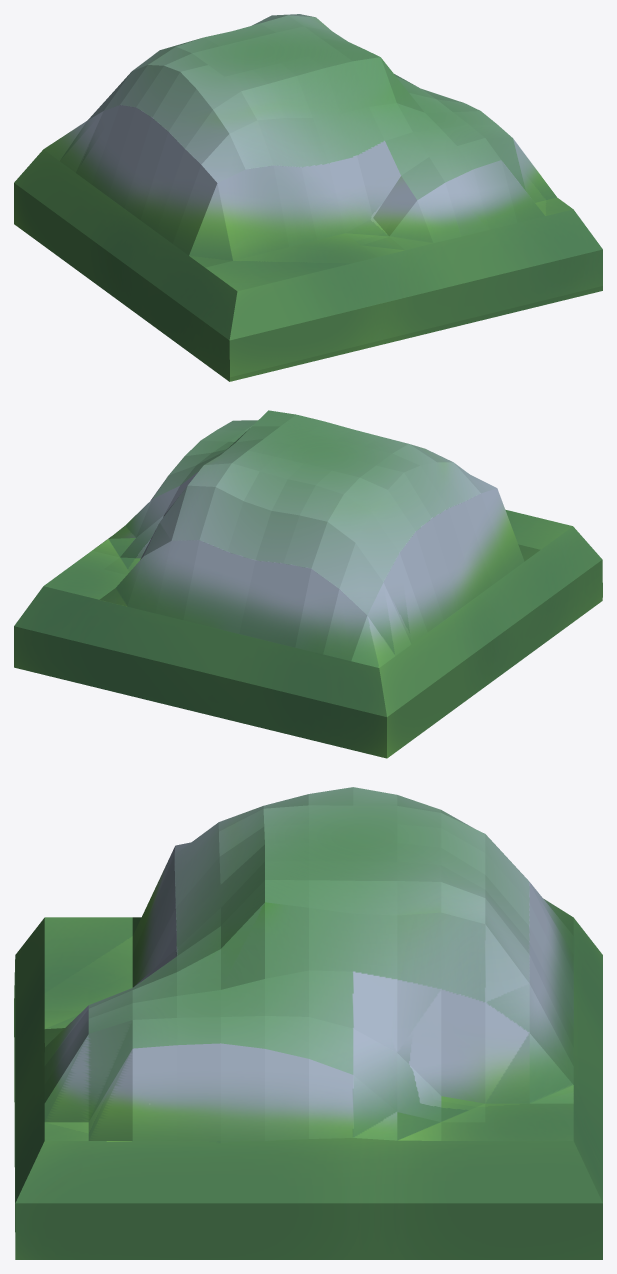
File: mountain_sqrt_swamp.glb
3 views of the same model, one above another, from view 1: azimuth 30°, elevation 25°; view 2: azimuth 150°, elevation 25°; view 3: azimuth 270°, elevation 25° (orthographic). The views are drawn at different scales.
Visible parts, largest first — view 1: Cylinder; view 2: Cylinder; view 3: Cylinder.
Boxes of the visible parts, x1,y1,x2,y2 form: Cylinder: (14, 14, 602, 381); Cylinder: (14, 410, 602, 758); Cylinder: (14, 787, 602, 1259).
Bounding box in the file's own units: 1 × 0.5152 × 1.
1 material, 1 textured.
